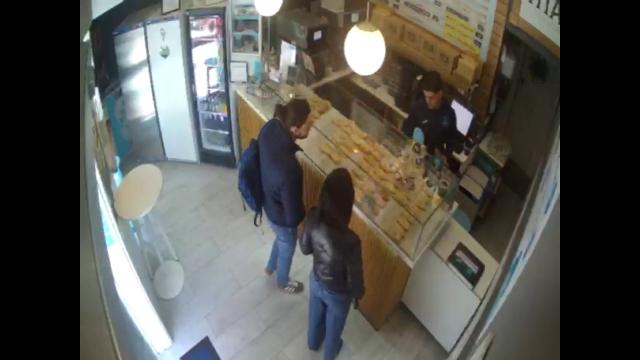cliente: (238, 99, 310, 292), (300, 168, 364, 360)
empleado: (402, 72, 462, 160)
